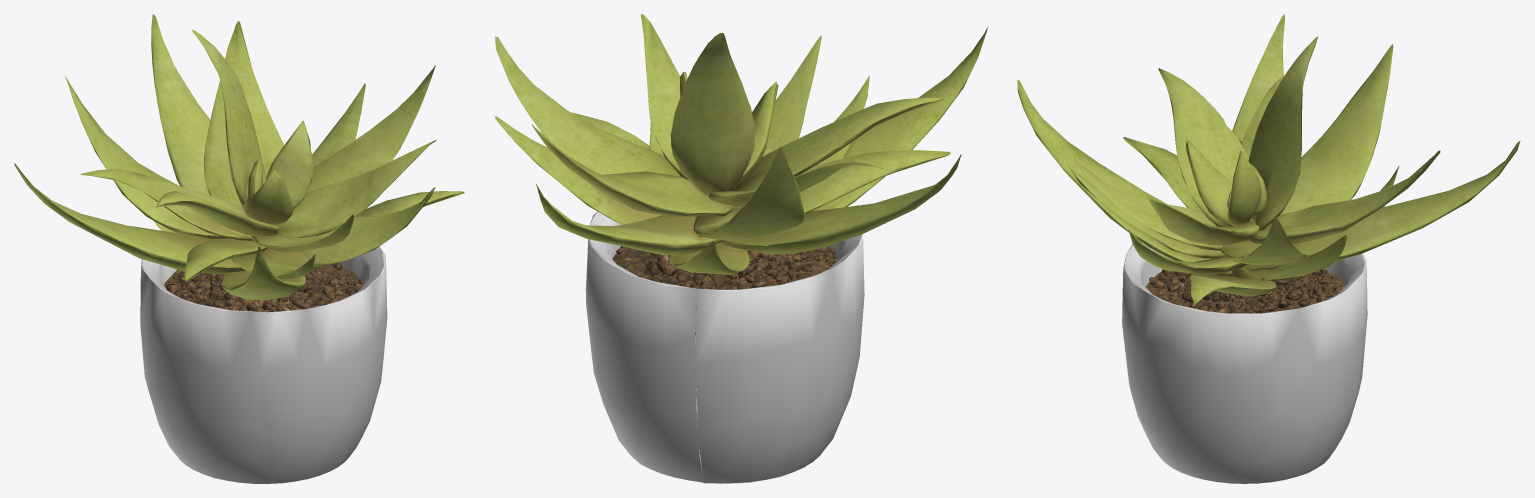
File: plant.glb
The picture shows the model from 3 angles, left to right: view 1: azimuth 30°, elevation 25°; view 2: azimuth 150°, elevation 25°; view 3: azimuth 270°, elevation 25°; orthographic projection. The views are drawn at different scales.
Parts seen in each view (by area): view 1: Decor_Flower_02.001; view 2: Decor_Flower_02.001; view 3: Decor_Flower_02.001.
Boxes of the visible parts, x1,y1,x2,y2 form: Decor_Flower_02.001: [14, 14, 464, 483]; Decor_Flower_02.001: [494, 14, 988, 483]; Decor_Flower_02.001: [1017, 14, 1520, 483].
Size of the model in its own units: 14.55 by 13.39 by 15.34.
Materials: 1 (1 with a texture image).
